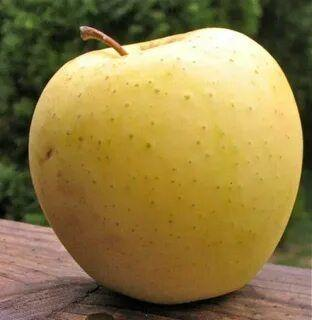Apple: (28, 30, 303, 307)
